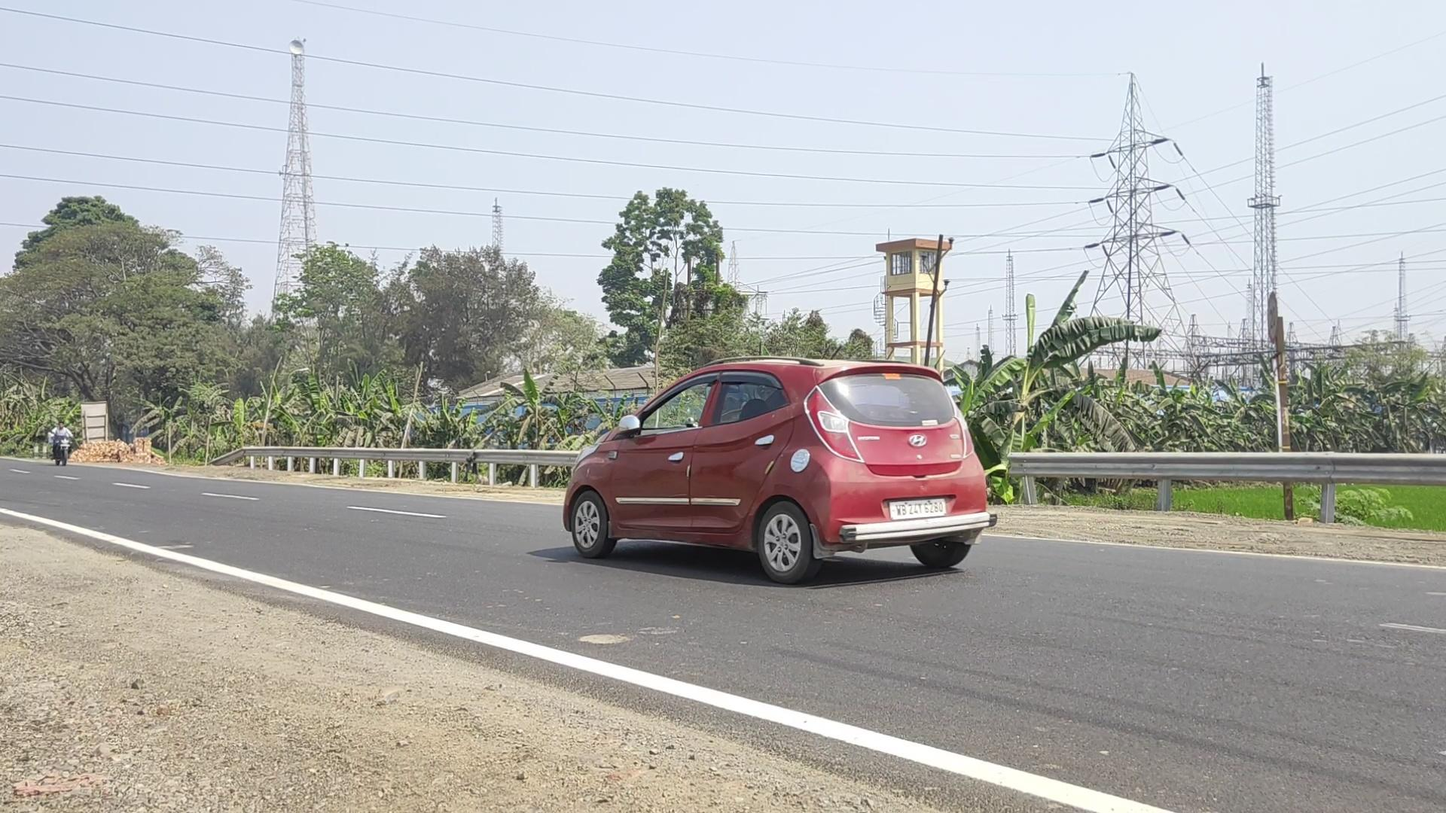bike: (50, 422, 74, 466)
car: (563, 355, 998, 586)
